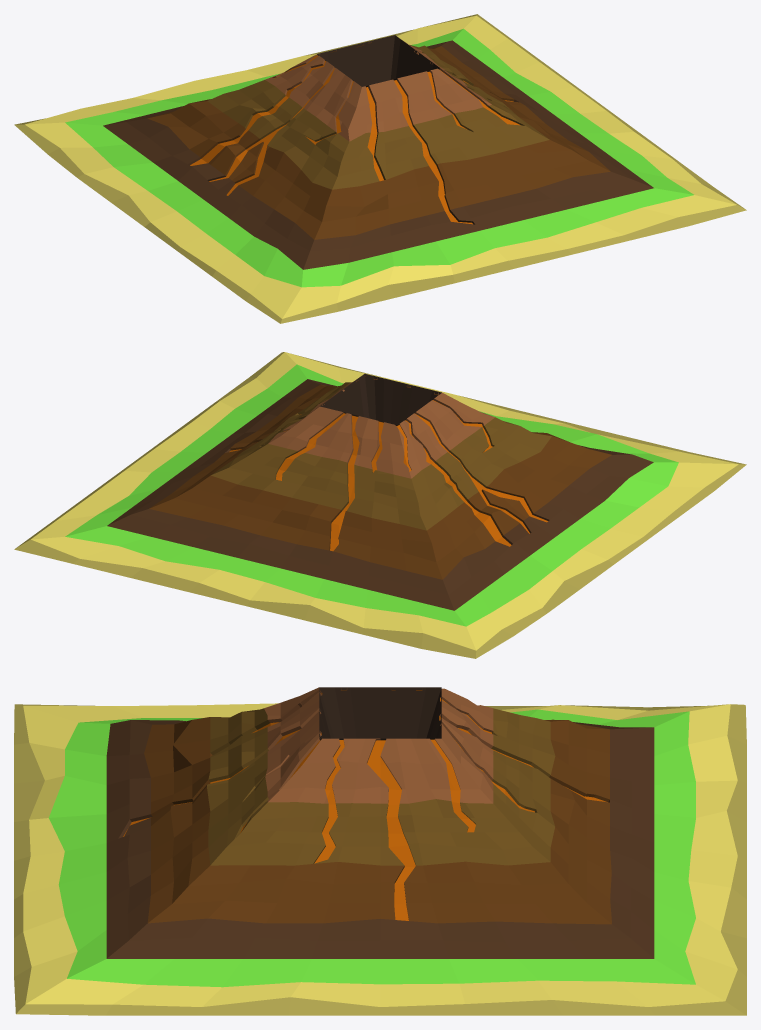
File: Ilha2.fbx
3 renders of one model, top to bottom at view 1: azimuth 30°, elevation 25°; view 2: azimuth 150°, elevation 25°; view 3: azimuth 270°, elevation 25°, orthographic. The views are drawn at different scales.
Visible parts, largest first — view 1: Vulcao; view 2: Vulcao; view 3: Vulcao.
Boxes of the visible parts, x1,y1,x2,y2 form: Vulcao: (14, 14, 746, 323); Vulcao: (14, 352, 746, 658); Vulcao: (14, 687, 746, 1015).
Size of the model in its own units: 932 by 207 by 932.
